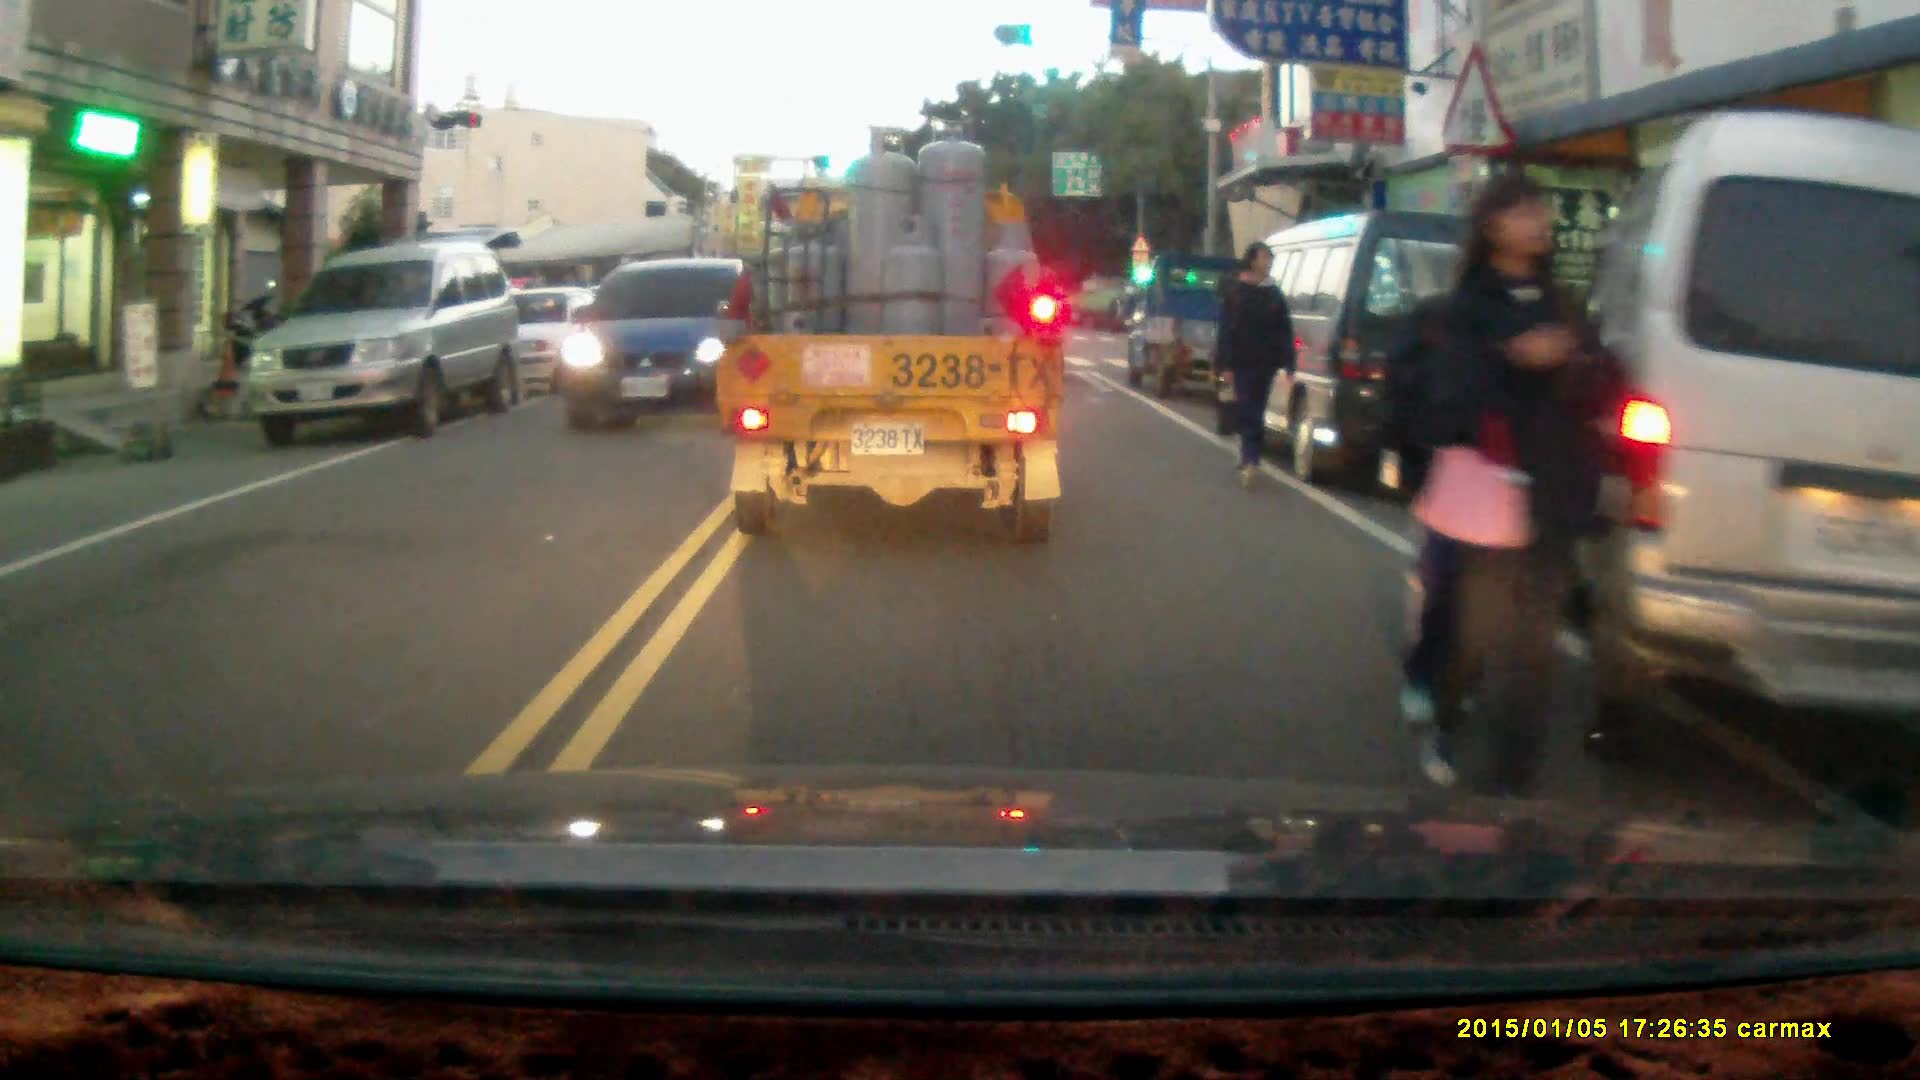pedestrian: (1445, 166, 1636, 809), (1211, 236, 1300, 490)
vehicle: (1561, 107, 1920, 768), (714, 125, 1066, 536), (1218, 207, 1562, 503), (251, 244, 526, 448), (555, 261, 780, 430), (455, 286, 618, 404), (1123, 250, 1244, 399)
